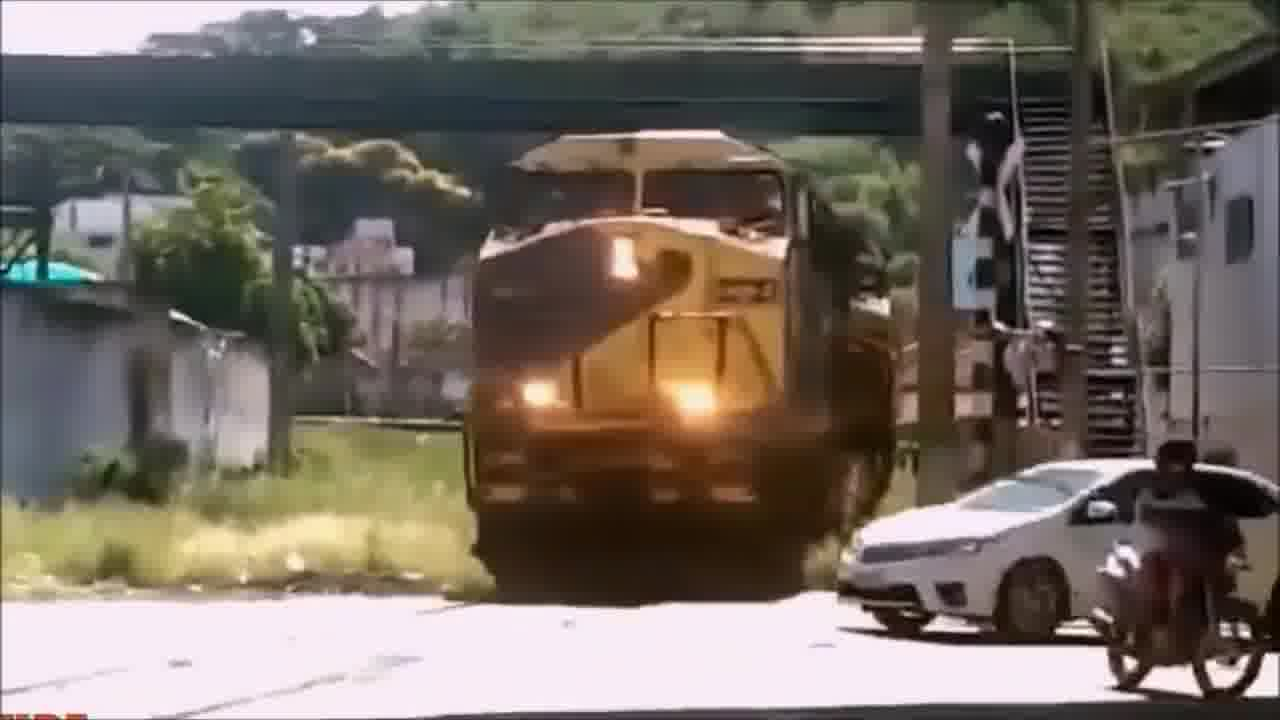crossing railway track: (834, 446, 1280, 651)
